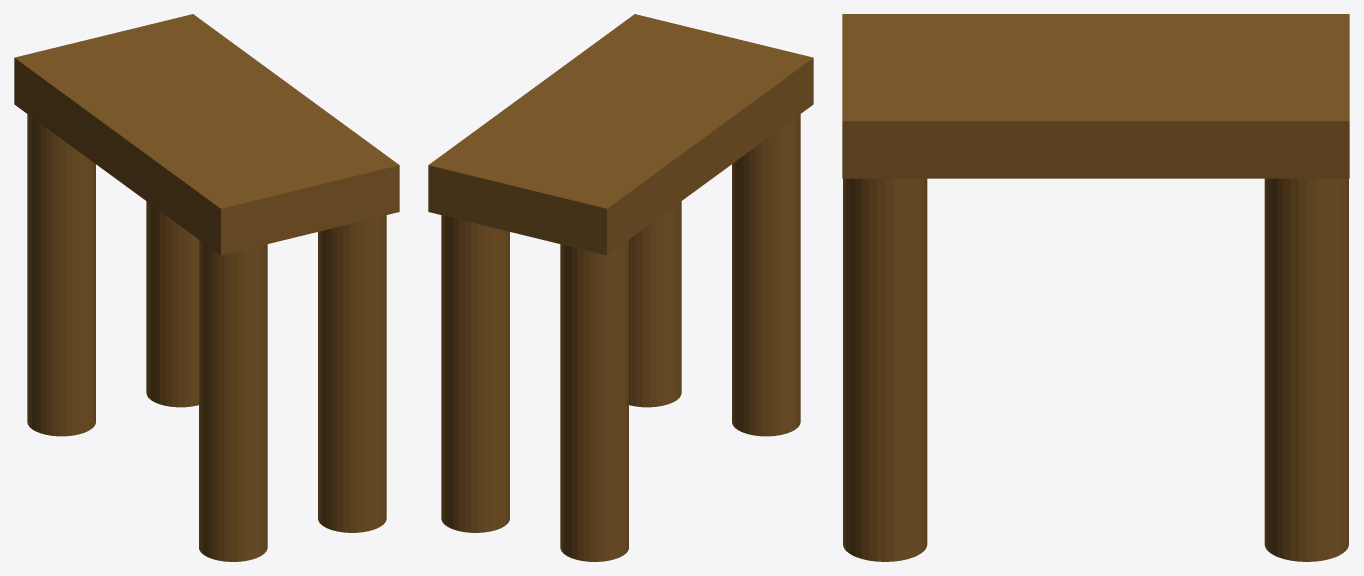
The model's file is pier.fbx.
3 renders of one model, left to right at view 1: azimuth 30°, elevation 25°; view 2: azimuth 150°, elevation 25°; view 3: azimuth 270°, elevation 25°, orthographic. The views are drawn at different scales.
Visible parts, largest first — view 1: Cylinder, Cube; view 2: Cylinder, Cube; view 3: Cube, Cylinder.
Boxes of the visible parts, bbox=[...] form: Cylinder: bbox=[27, 114, 386, 561]; Cube: bbox=[14, 14, 399, 255]; Cylinder: bbox=[441, 114, 800, 561]; Cube: bbox=[428, 14, 813, 255]; Cube: bbox=[842, 14, 1349, 178]; Cylinder: bbox=[843, 178, 1348, 561].
Size of the model in its own units: 600 by 1150 by 1200.
